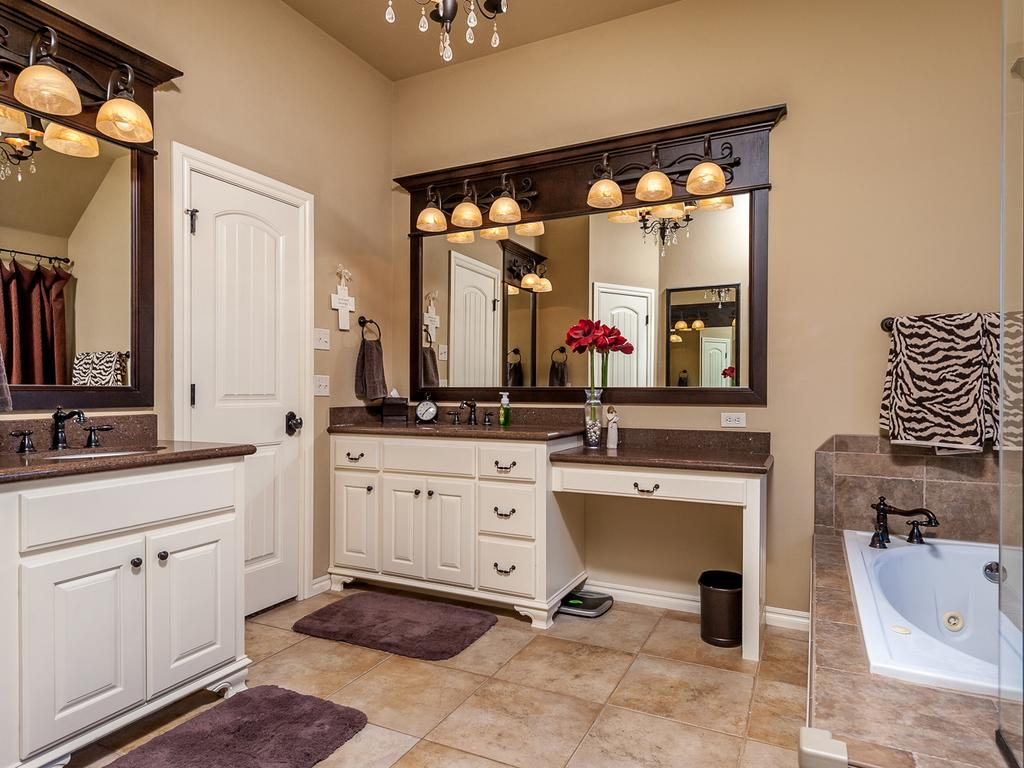cabinet_door: (19, 558, 140, 701), (154, 536, 238, 654), (566, 475, 750, 498), (386, 479, 428, 575), (430, 490, 472, 584), (337, 474, 380, 564), (390, 451, 468, 477), (482, 549, 530, 591), (480, 502, 534, 534), (334, 444, 380, 466), (484, 454, 534, 474)
handle: (492, 459, 526, 478), (126, 552, 146, 578), (289, 407, 305, 436), (488, 564, 518, 579), (628, 482, 662, 495), (344, 451, 366, 464), (494, 510, 512, 523), (425, 486, 436, 506), (156, 548, 170, 563), (364, 482, 374, 498), (412, 488, 418, 500)
